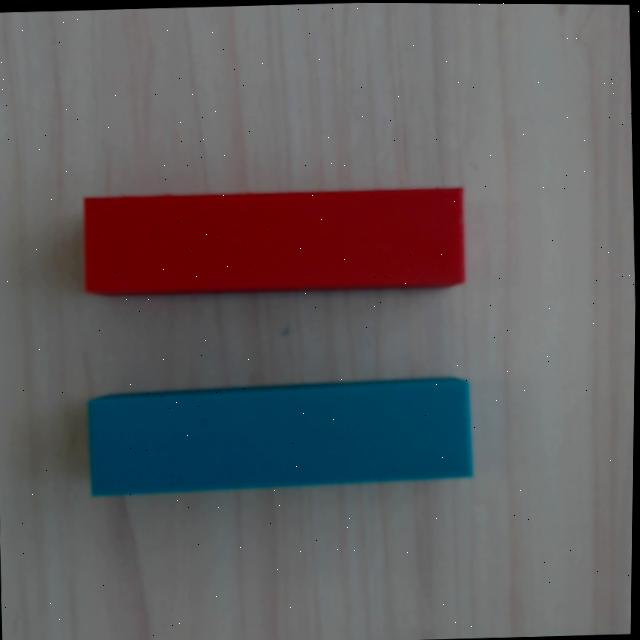Balok-Hijau-1002525: (87, 373, 473, 495)
Balok-Merah-1002525: (83, 187, 465, 295)
